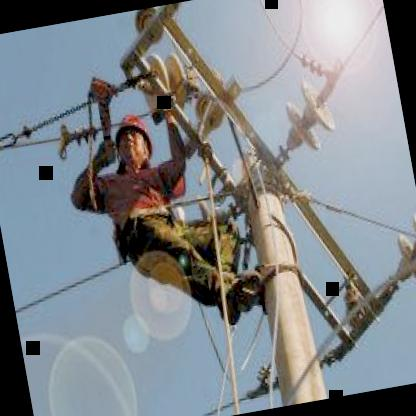helmet: (108, 104, 160, 180)
